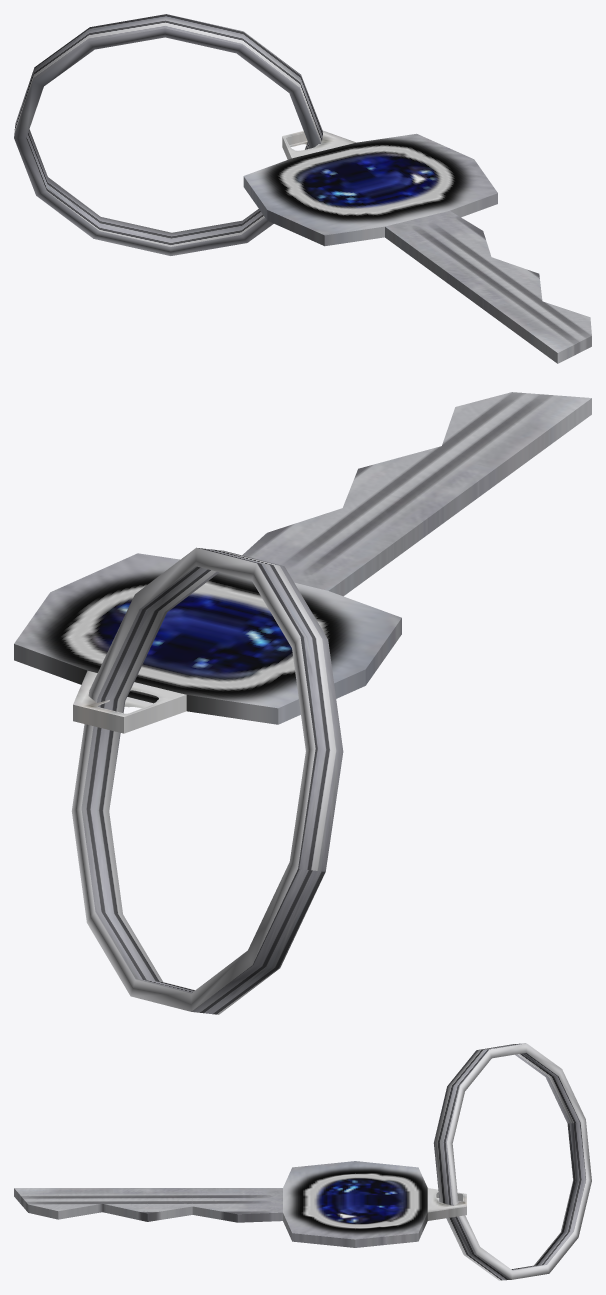
File: key_j_sapphire.fbx
3 views of the same model, one above another, from view 1: azimuth 30°, elevation 25°; view 2: azimuth 150°, elevation 25°; view 3: azimuth 270°, elevation 25° (orthographic). The views are drawn at different scales.
Visible parts, largest first — view 1: key_j_sapph; view 2: key_j_sapph; view 3: key_j_sapph.
Boxes of the visible parts, x1=… form: key_j_sapph: x1=14, y1=14, x2=591, y2=363; key_j_sapph: x1=14, y1=392, x2=591, y2=1014; key_j_sapph: x1=14, y1=1043, x2=591, y2=1280.
Size of the model in its own units: 10.09 by 8.2 by 20.26.
1 material, 1 textured.
